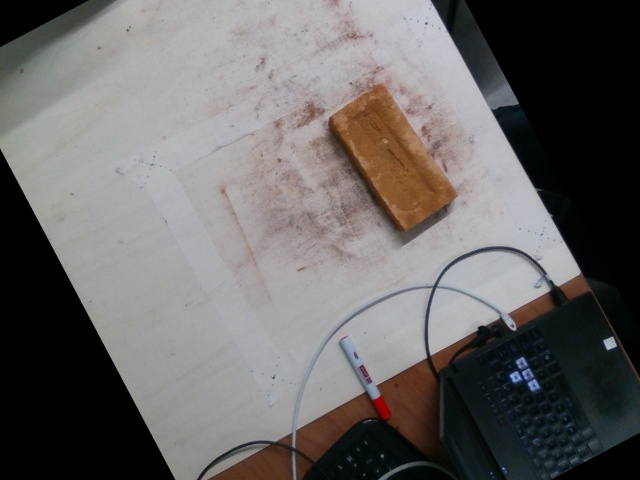brick: (328, 84, 455, 229)
